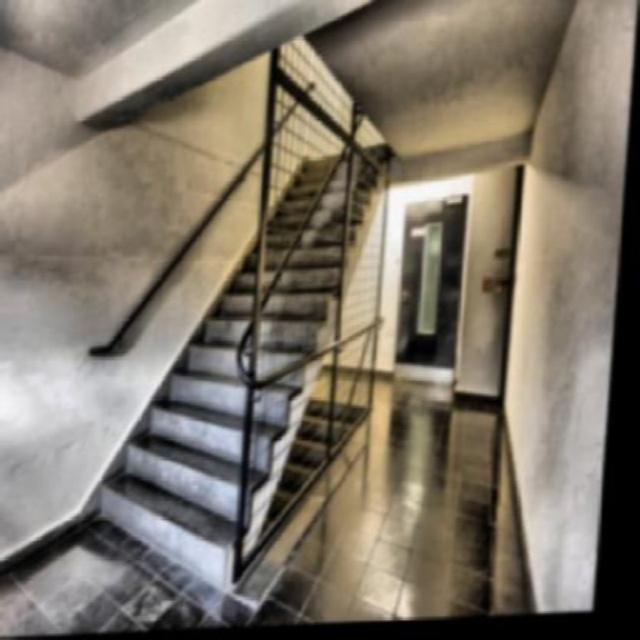stair: (111, 93, 358, 570)
